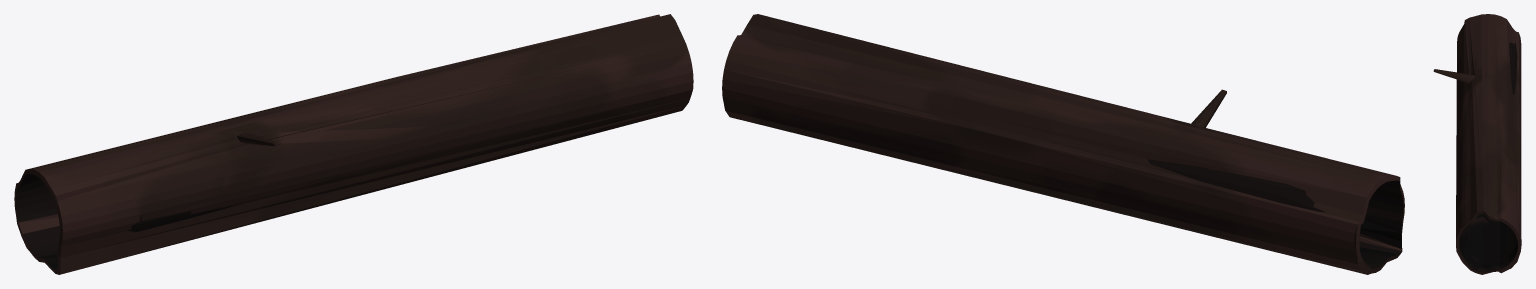
Rendered from tronco.fbx.
3 views of the same model, side by side, from view 1: azimuth 30°, elevation 25°; view 2: azimuth 150°, elevation 25°; view 3: azimuth 270°, elevation 25° (orthographic). The views are drawn at different scales.
Visible parts, largest first — view 1: Cylinder; view 2: Cylinder; view 3: Cylinder.
Part boxes in pixels (left/top/right/bottom): Cylinder: left=14, top=14, right=693, bottom=274; Cylinder: left=722, top=14, right=1404, bottom=274; Cylinder: left=1433, top=14, right=1521, bottom=274.
Size of the model in its own units: 888 by 135 by 163.
